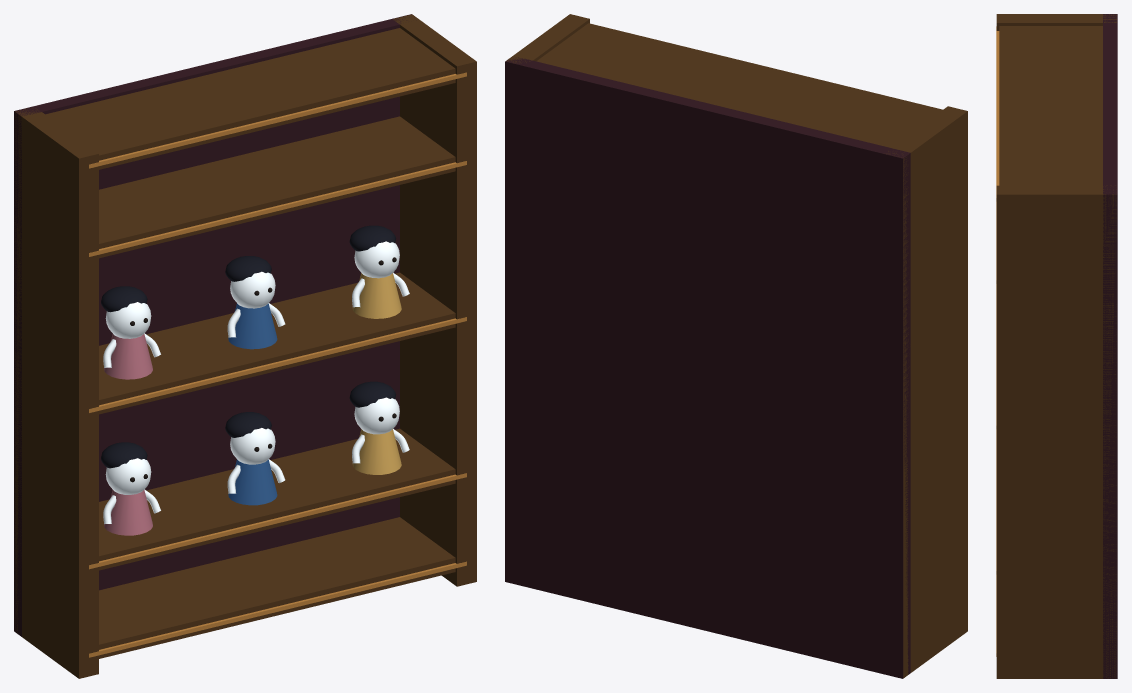
The model's file is mia-doll_shelf.glb.
3 views of the same model, side by side, from view 1: azimuth 30°, elevation 25°; view 2: azimuth 150°, elevation 25°; view 3: azimuth 270°, elevation 25° (orthographic). The views are drawn at different scales.
Visible parts, largest first — view 1: Body_wood, Body_dark, Body_brass, Body_porcelain, Body_hair, Body_night-glass, Body_cake-rose, Body_hay-light; view 2: Body_dark, Body_wood; view 3: Body_wood, Body_dark, Body_brass.
Part boxes in pixels (bbox=[...]): Body_wood: bbox=[14, 14, 476, 678]; Body_dark: bbox=[14, 14, 416, 636]; Body_brass: bbox=[89, 72, 466, 657]; Body_porcelain: bbox=[103, 241, 409, 523]; Body_hair: bbox=[101, 225, 395, 468]; Body_night-glass: bbox=[228, 303, 277, 505]; Body_cake-rose: bbox=[104, 333, 152, 535]; Body_hay-light: bbox=[352, 273, 401, 474]; Body_dark: bbox=[505, 57, 910, 678]; Body_wood: bbox=[506, 14, 967, 678]; Body_wood: bbox=[996, 14, 1116, 678]; Body_dark: bbox=[1103, 14, 1117, 678]; Body_brass: bbox=[996, 26, 999, 656].
Bounding box in the file's own units: 1.6 × 2 × 0.4535.
